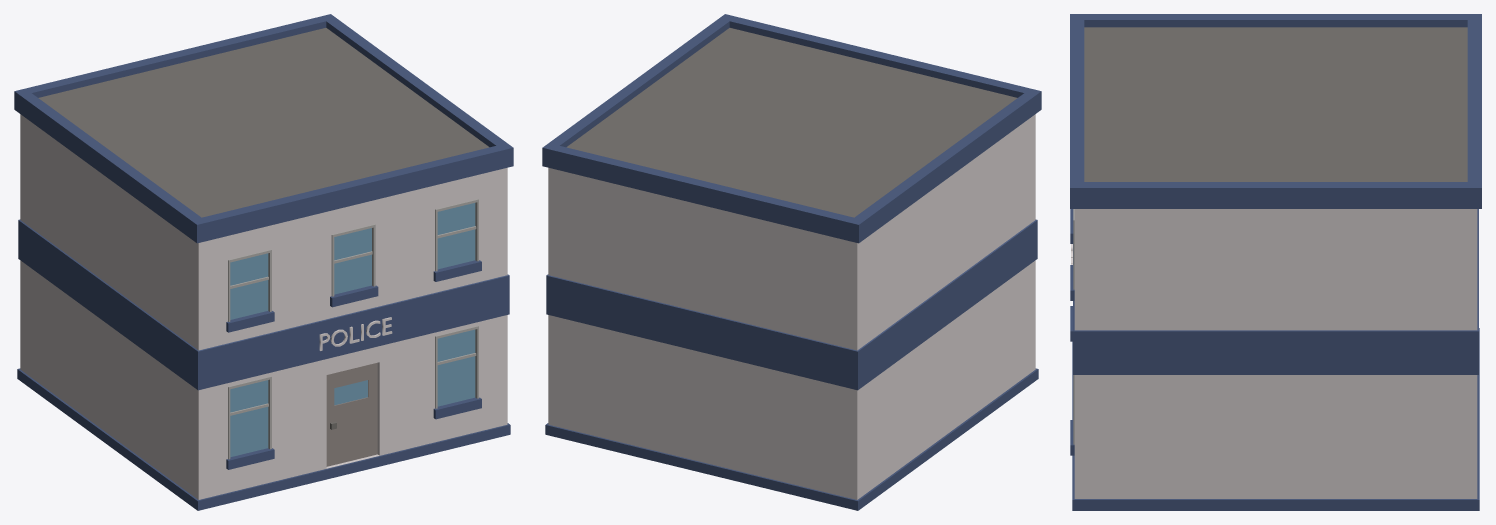
File: Police.fbx
3 views of the same model, side by side, from view 1: azimuth 30°, elevation 25°; view 2: azimuth 150°, elevation 25°; view 3: azimuth 270°, elevation 25° (orthographic). The views are drawn at different scales.
Visible parts, largest first — view 1: Police; view 2: Police; view 3: Police.
Part boxes in pixels (box(x1,y1,x2,y2)): Police: box(14, 14, 513, 510); Police: box(542, 14, 1041, 510); Police: box(1070, 14, 1481, 510).
Size of the model in its own units: 14.04 by 12.18 by 14.04.
